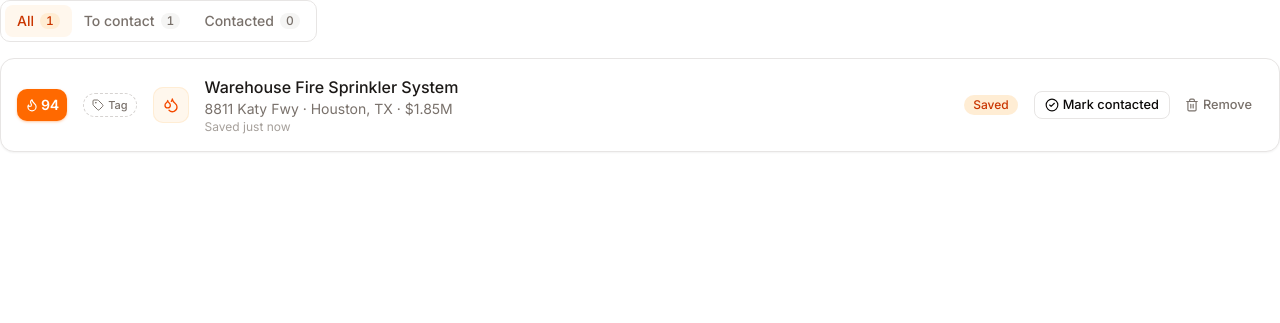
Test: SavedList › removes an item optimistically and shows the empty state
The width and height of the screenshot is (1280, 323).
What coordinates should you click on to do the following:
click the button "Remove"
I would click on:
 (1218, 105)
Its box is x1=1174 y1=91 x2=1263 y2=119.
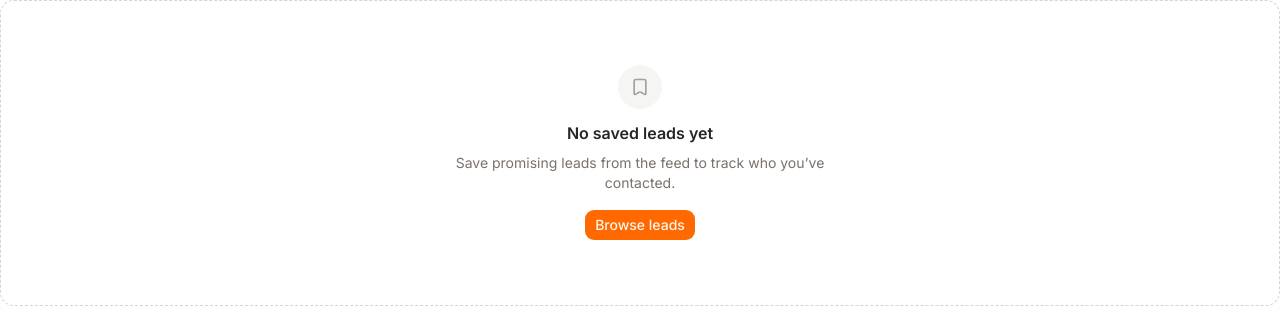
Result: the text "No saved leads yet" is shown at x1=567 y1=121 x2=713 y2=145
